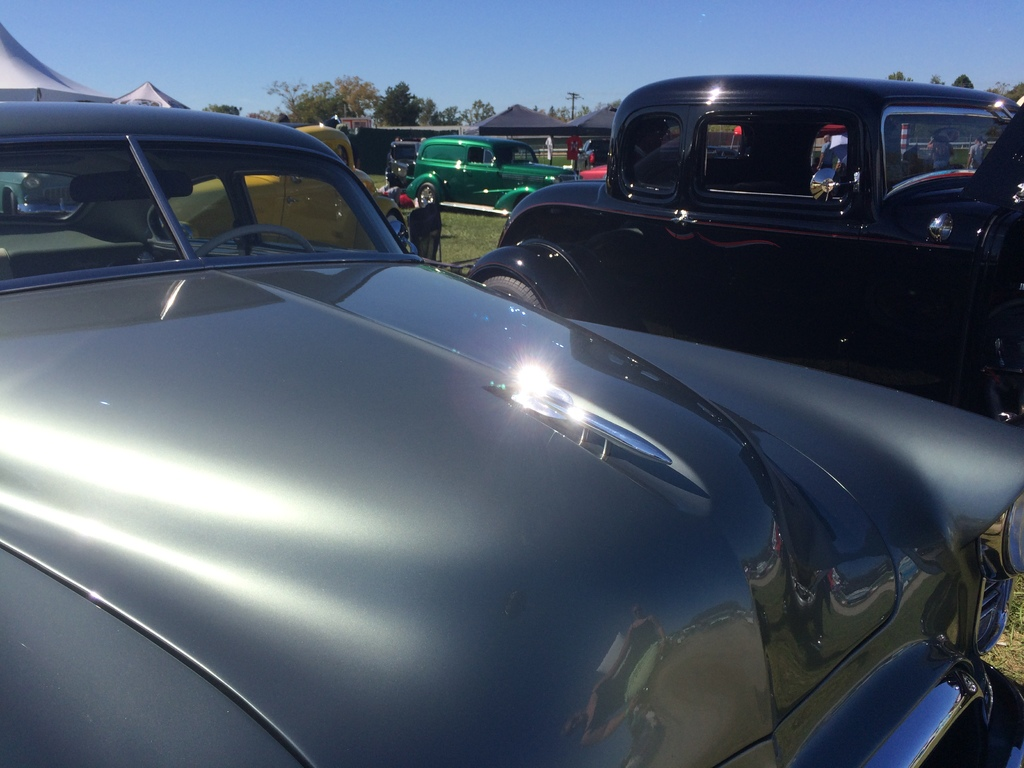Car: (0, 87, 1023, 767), (448, 81, 1023, 410), (403, 136, 578, 215)
